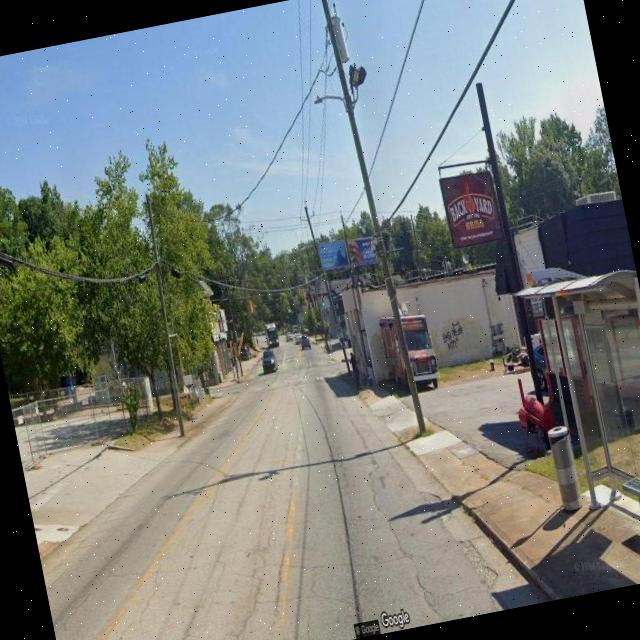seating: (614, 462, 640, 552)
shelter: (510, 257, 640, 593)
trash_can: (546, 424, 583, 512)
